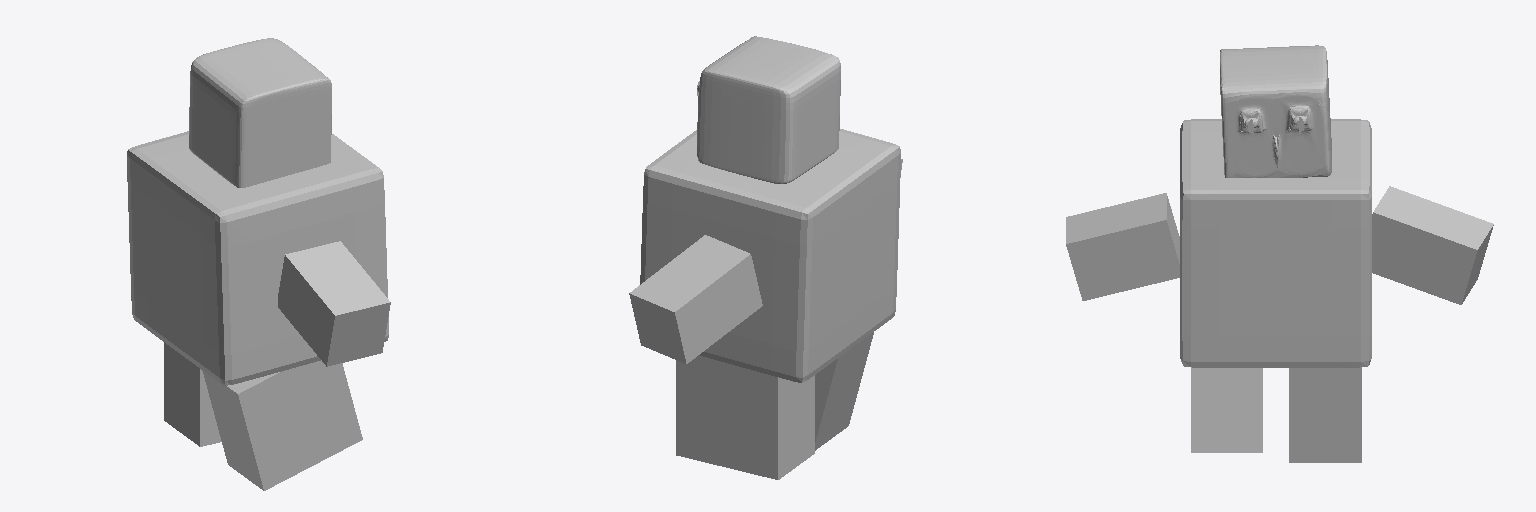
3 renders of one model, left to right at view 1: azimuth 30°, elevation 25°; view 2: azimuth 150°, elevation 25°; view 3: azimuth 270°, elevation 25°, orthographic.
Parts seen in each view (by area): view 1: Cube_Cube.001, Cube.001_Cube.002, Cube.002_Cube.003, Cube.005_Cube.007, Cube.003_Cube.004; view 2: Cube_Cube.001, Cube.001_Cube.002, Cube.003_Cube.004, Cube.004_Cube.005, Cube.002_Cube.003; view 3: Cube_Cube.001, Cube.001_Cube.002, Cube.004_Cube.005, Cube.005_Cube.007, Cube.003_Cube.004, Cube.002_Cube.003.
Boxes of the visible parts, x1,y1,x2,y2 form: Cube_Cube.001: [127, 131, 388, 385]; Cube.001_Cube.002: [189, 38, 331, 187]; Cube.002_Cube.003: [202, 360, 362, 490]; Cube.005_Cube.007: [278, 241, 390, 366]; Cube.003_Cube.004: [164, 342, 221, 446]; Cube_Cube.001: [640, 129, 900, 382]; Cube.001_Cube.002: [697, 36, 840, 183]; Cube.003_Cube.004: [676, 355, 814, 479]; Cube.004_Cube.005: [629, 235, 762, 363]; Cube.002_Cube.003: [815, 332, 873, 450]; Cube_Cube.001: [1180, 119, 1371, 367]; Cube.001_Cube.002: [1220, 45, 1331, 177]; Cube.004_Cube.005: [1372, 186, 1493, 304]; Cube.005_Cube.007: [1066, 193, 1179, 300]; Cube.003_Cube.004: [1289, 367, 1361, 462]; Cube.002_Cube.003: [1191, 367, 1262, 452].
Bounding box in the file's own units: 1.5 × 3.24 × 3.24.